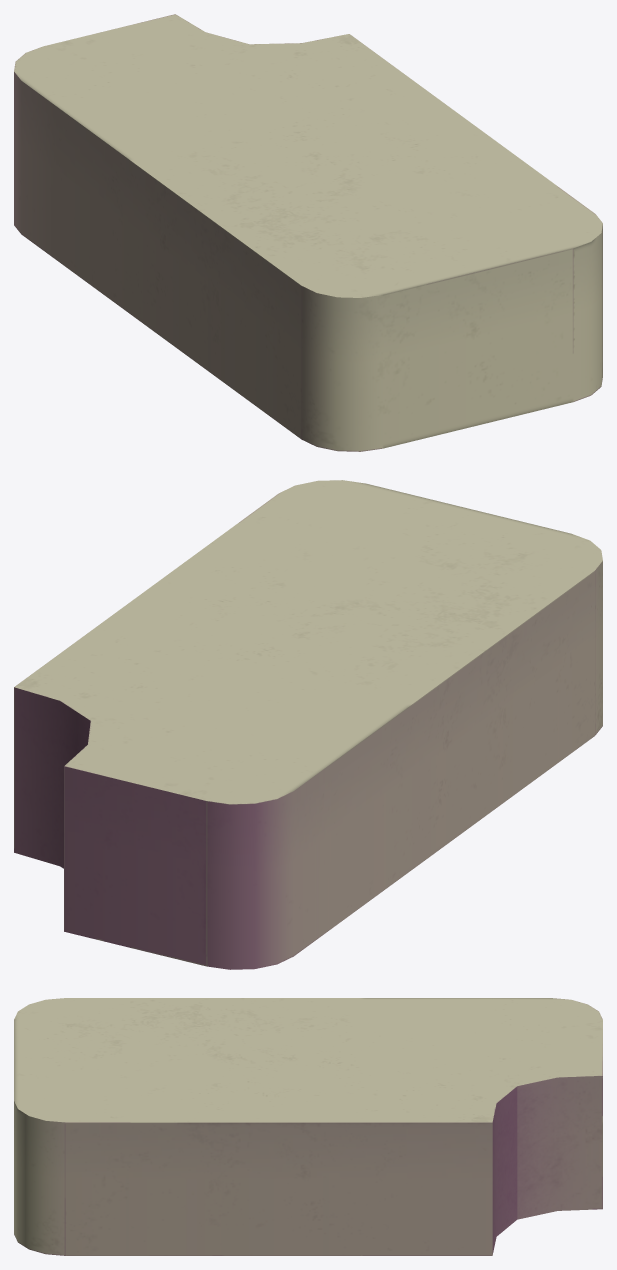
The model's file is Erazer.fbx.
The picture shows the model from 3 angles, top to bottom: view 1: azimuth 30°, elevation 25°; view 2: azimuth 150°, elevation 25°; view 3: azimuth 270°, elevation 25°; orthographic projection. The views are drawn at different scales.
Parts seen in each view (by area): view 1: Erazer; view 2: Erazer; view 3: Erazer.
Boxes of the visible parts, x1,y1,x2,y2 form: Erazer: [14, 14, 602, 451]; Erazer: [14, 480, 602, 969]; Erazer: [14, 998, 602, 1255].
Bounding box in the file's own units: 2 × 1 × 4.
